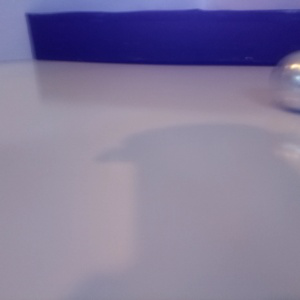zone: (26, 10, 300, 66)
